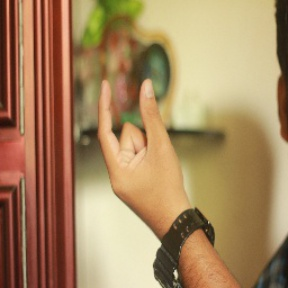U: (91, 69, 186, 211)
